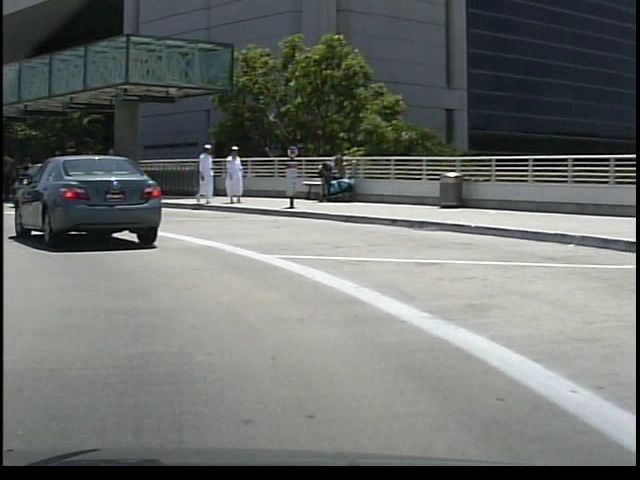person: (185, 140, 216, 210), (92, 144, 121, 216), (217, 143, 243, 206)
